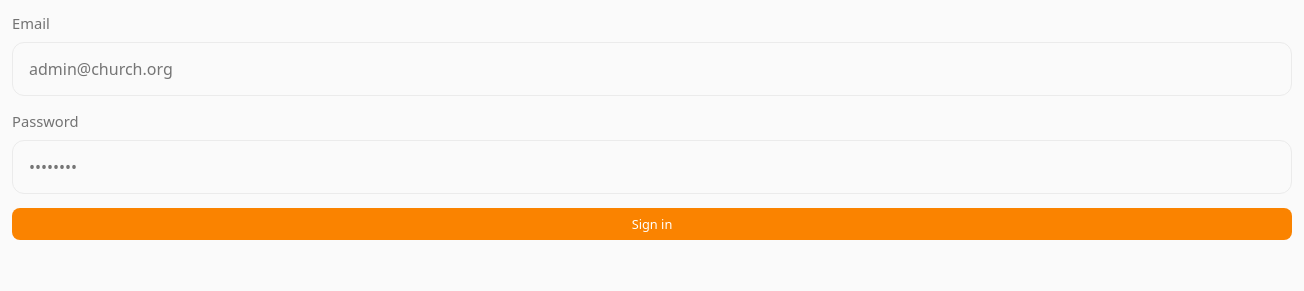
Test: SignInForm — admin sign-in (no legacy routing) › shows a mapped error when credentials are wrong
The width and height of the screenshot is (1304, 291).
Type "admin@chertt.com" into the field with placeholder "admin@church.org" at (652, 69), box [12,42,1292,96]
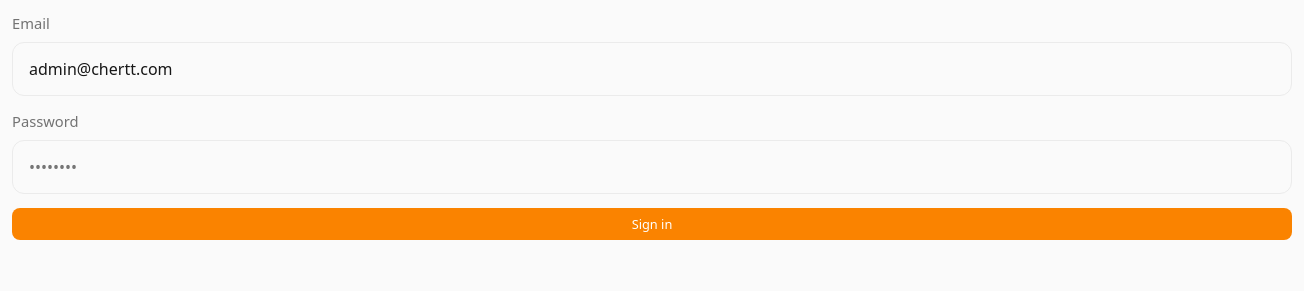
Type "wrongpass1" into the password field with placeholder "••••••••" at (652, 167), box [12,140,1292,194]
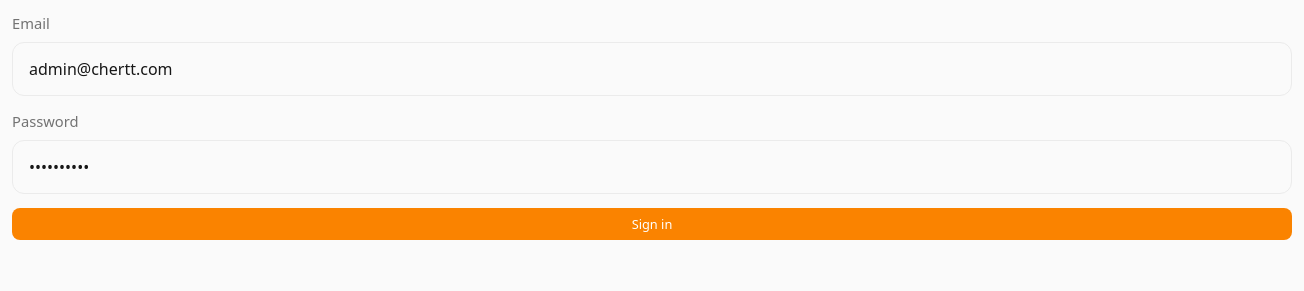
Click the button "Sign in" at (652, 224), box [12,208,1292,240]
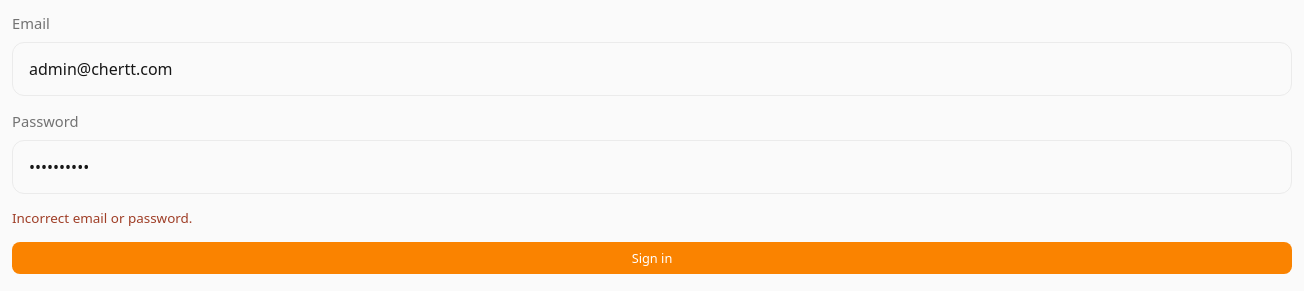
Expected: the text "Incorrect email or password." is shown, [12,209,192,227]
